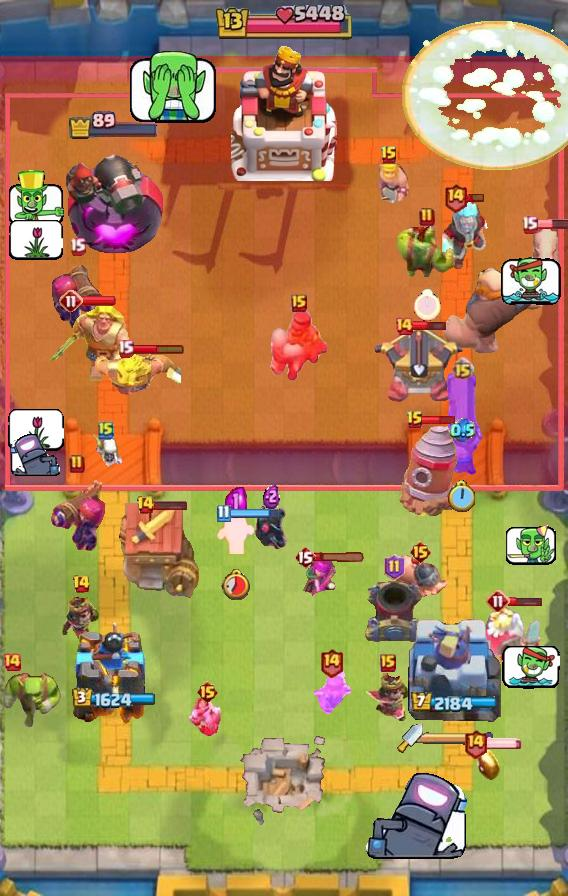archer: (366, 162, 412, 206)
balloon: (441, 265, 545, 357)
bar: (405, 611, 501, 731)
bat: (215, 514, 257, 554)
battle-healer: (439, 372, 485, 476)
battle-ram: (252, 504, 290, 554)
bomber: (476, 746, 502, 782)
bomber-evolution: (365, 673, 411, 725), (59, 594, 103, 648)
cannon: (298, 554, 340, 602)
clock: (213, 5, 355, 43)
electro-spirit: (225, 487, 247, 517), (449, 418, 474, 443), (263, 483, 280, 509)
elite-barbarian: (269, 308, 329, 382)
elixir: (447, 480, 476, 514), (221, 568, 251, 600), (414, 289, 441, 321)
emote: (131, 343, 185, 355), (228, 509, 280, 520), (314, 553, 366, 564), (485, 737, 523, 749), (412, 319, 447, 332), (81, 295, 117, 307), (422, 414, 458, 426), (152, 499, 188, 511), (508, 595, 543, 607), (536, 218, 568, 230), (465, 192, 485, 203)
evolution-symbol: (311, 669, 351, 721)
executioner: (393, 553, 447, 599)
flying-machine: (0, 672, 62, 728), (397, 223, 457, 277)
giant: (527, 223, 561, 279)
goblin-hut: (47, 301, 133, 381), (93, 351, 181, 397)
heal-spirit: (90, 430, 123, 472)
king-tower: (231, 43, 337, 181)
king-tower-bar: (423, 731, 495, 745)
lava-pup: (374, 322, 466, 404)
magic-archer: (399, 423, 459, 517)
mega-minion: (48, 479, 106, 553), (50, 258, 104, 332)
mortar: (437, 198, 501, 270)
mortar-evolution: (477, 604, 545, 678)
musketeer: (363, 578, 425, 646)
phoenix-big: (402, 21, 568, 171)
queen-tower: (72, 619, 156, 731)
royal-delivery: (187, 695, 227, 737)
selected: (68, 112, 160, 140), (411, 692, 498, 714), (72, 687, 156, 709)
skeleton: (361, 772, 467, 864), (126, 50, 222, 126), (5, 170, 66, 229), (502, 257, 563, 307), (502, 643, 560, 689), (506, 521, 559, 567), (8, 409, 64, 452), (10, 434, 61, 478), (9, 219, 63, 260)
sparky: (113, 502, 199, 600)
text: (444, 182, 469, 213), (463, 728, 488, 759), (320, 646, 344, 677), (59, 289, 83, 313), (486, 589, 510, 613), (383, 554, 405, 580), (409, 540, 432, 564), (196, 680, 219, 704), (450, 356, 473, 379), (294, 545, 316, 569), (394, 316, 414, 336), (2, 652, 22, 672), (136, 495, 155, 515), (72, 574, 91, 594), (380, 145, 398, 165), (406, 410, 424, 430), (69, 237, 87, 256), (117, 339, 135, 357), (419, 207, 435, 227), (98, 420, 114, 440), (69, 454, 85, 474), (522, 215, 539, 233), (291, 294, 307, 312), (380, 654, 396, 672), (217, 505, 231, 524)
tower-bar: (64, 138, 164, 256)
